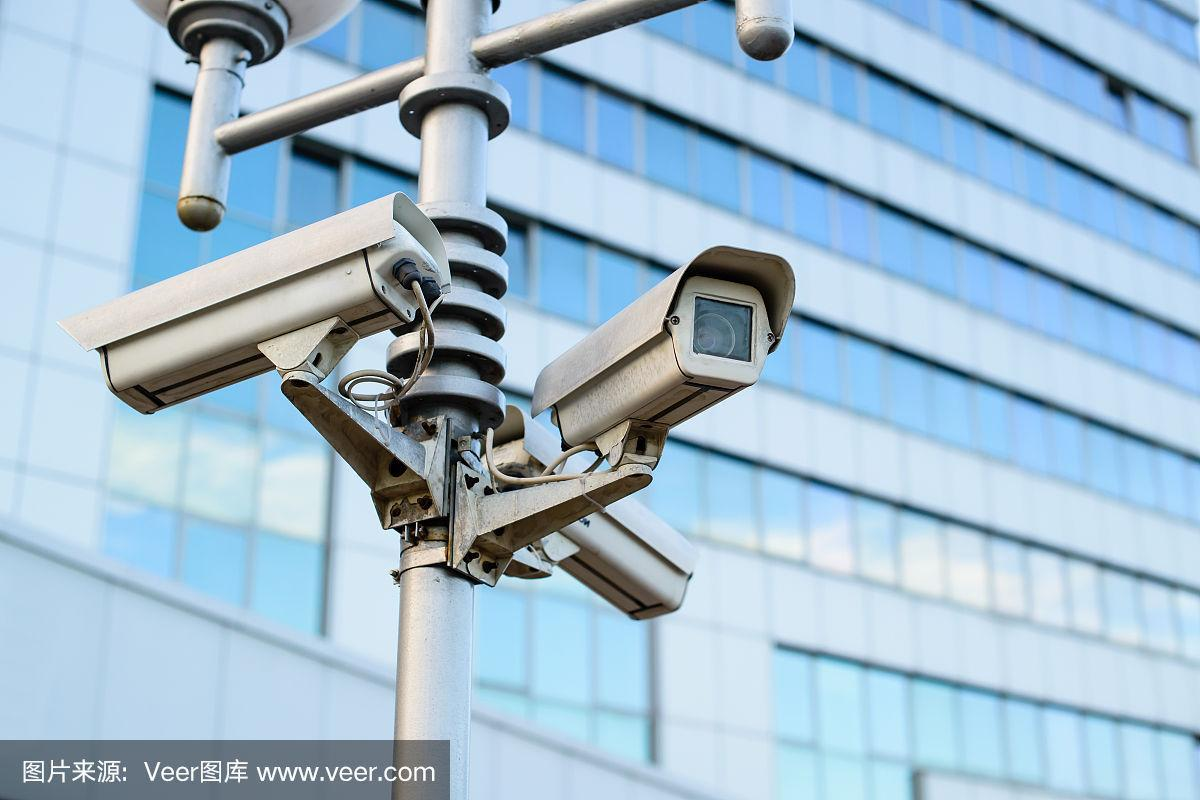bicycle: (51, 189, 426, 436), (474, 409, 701, 616), (550, 262, 811, 442)
